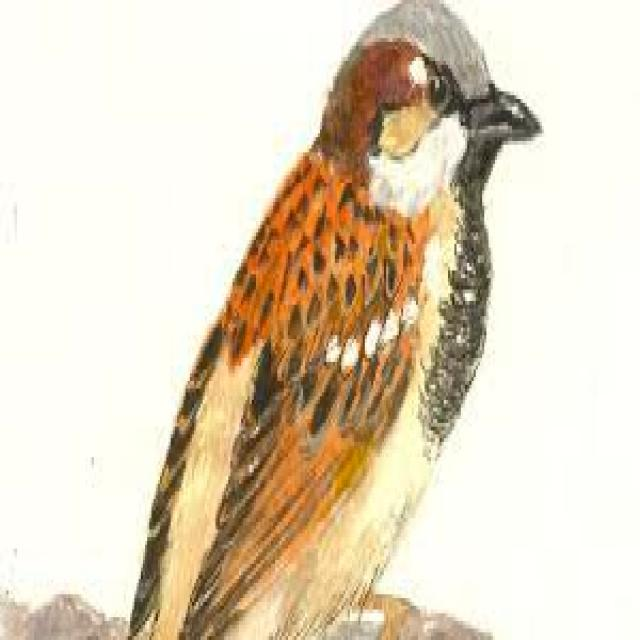sparrow: (130, 0, 538, 636)
